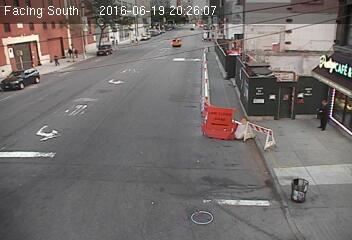neg: (240, 118, 270, 157), (207, 111, 229, 139), (232, 27, 250, 50), (120, 54, 137, 78), (188, 36, 204, 58), (159, 86, 175, 108), (119, 116, 135, 137), (156, 50, 171, 69), (285, 16, 300, 35), (169, 135, 182, 154), (86, 87, 99, 103), (282, 58, 293, 73), (249, 10, 260, 24), (187, 5, 198, 19), (104, 5, 115, 19), (213, 70, 223, 83), (137, 4, 147, 17), (56, 7, 66, 20)
pos: (310, 95, 335, 129), (50, 53, 61, 67), (65, 46, 75, 58), (71, 45, 80, 58)
